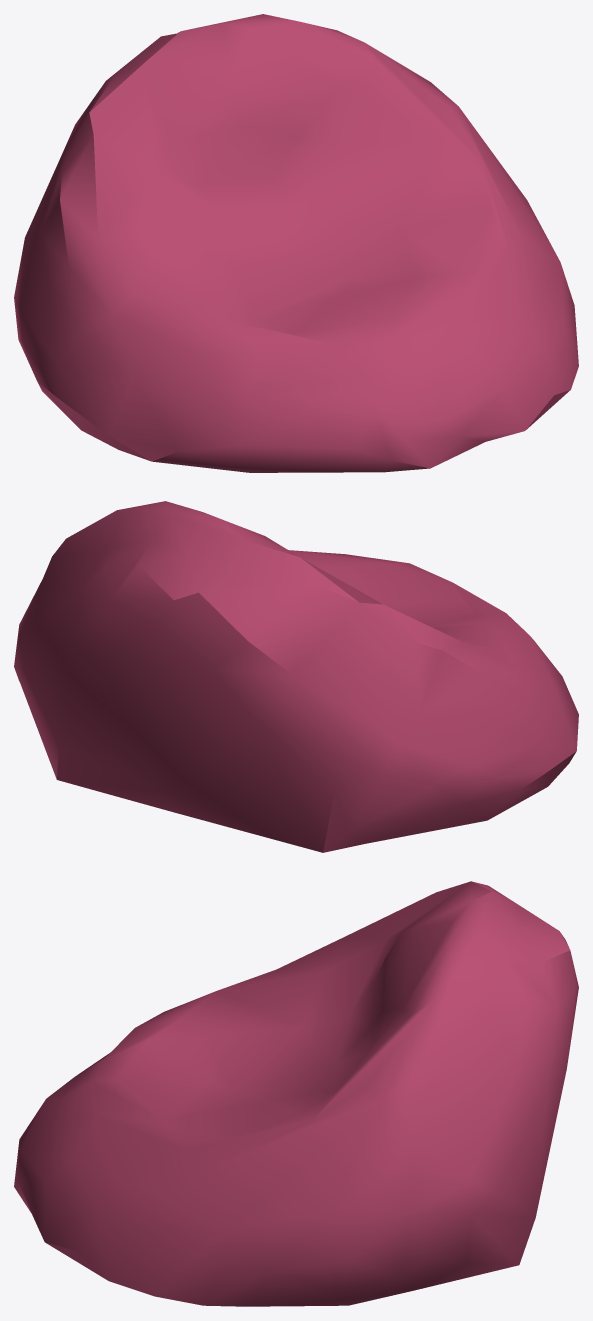
Rendered from Beanbag_Pink.glb.
3 renders of one model, top to bottom at view 1: azimuth 30°, elevation 25°; view 2: azimuth 150°, elevation 25°; view 3: azimuth 270°, elevation 25°, orthographic. The views are drawn at different scales.
Visible parts, largest first — view 1: Puf_Pink; view 2: Puf_Pink; view 3: Puf_Pink.
Part boxes in pixels (bbox=[...]): Puf_Pink: bbox=[14, 14, 578, 472]; Puf_Pink: bbox=[14, 501, 578, 852]; Puf_Pink: bbox=[14, 881, 578, 1306].
Size of what is drawn, in the model's own units: 1.82 by 0.9886 by 1.73.
1 material, 1 textured.
